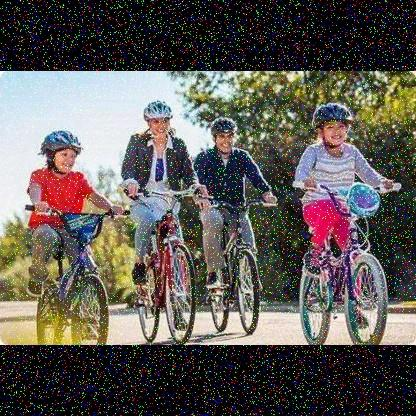Bicycle: (291, 173, 396, 346), (22, 192, 124, 343), (135, 181, 206, 338), (201, 189, 275, 337)
